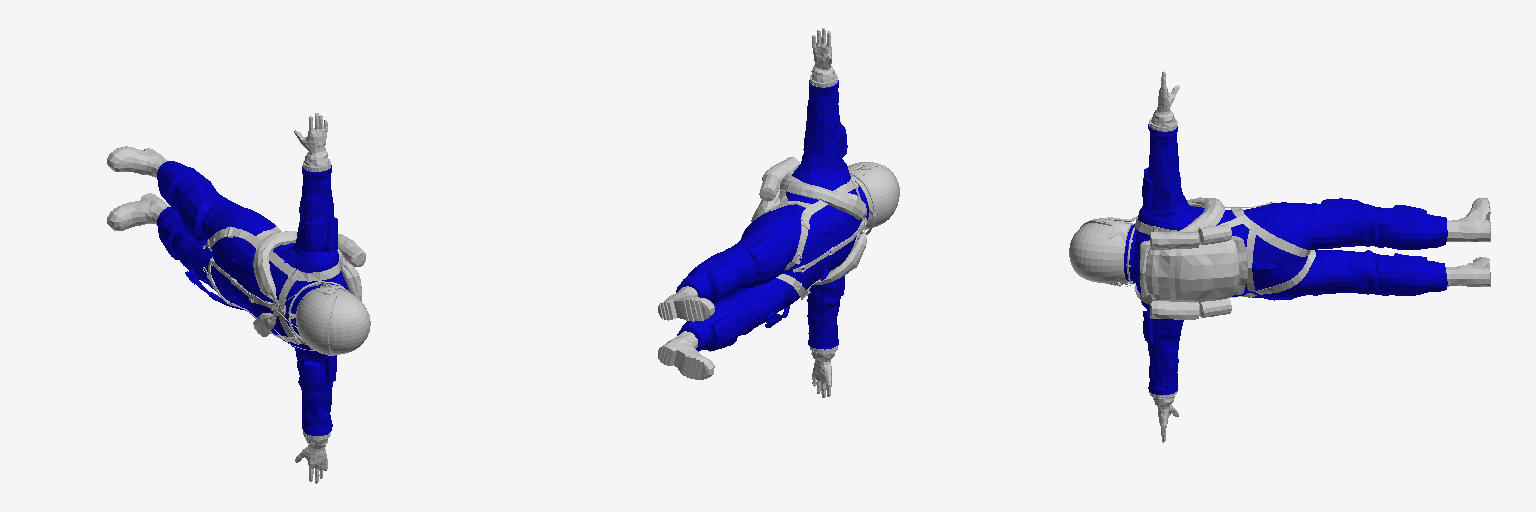
The model's file is uploads_files_2891700_Space+Suit_Green.obj.
3 renders of one model, left to right at view 1: azimuth 30°, elevation 25°; view 2: azimuth 150°, elevation 25°; view 3: azimuth 270°, elevation 25°, orthographic.
Parts seen in each view (by area): view 1: Wearpack_Mesh.003, Glove_Shoes_Mesh.001, Helmet_Mesh.002, Backpack_Mesh, Belt_Mesh.004; view 2: Wearpack_Mesh.003, Glove_Shoes_Mesh.001, Backpack_Mesh, Helmet_Mesh.002, Belt_Mesh.004; view 3: Wearpack_Mesh.003, Backpack_Mesh, Glove_Shoes_Mesh.001, Helmet_Mesh.002, Belt_Mesh.004.
Boxes of the visible parts, x1=… form: Wearpack_Mesh.003: x1=157, y1=161, x2=347, y2=435; Glove_Shoes_Mesh.001: x1=107, y1=113, x2=330, y2=483; Helmet_Mesh.002: x1=274, y1=281, x2=370, y2=355; Backpack_Mesh: x1=253, y1=231, x2=365, y2=336; Belt_Mesh.004: x1=202, y1=225, x2=344, y2=344; Wearpack_Mesh.003: x1=676, y1=80, x2=868, y2=351; Glove_Shoes_Mesh.001: x1=658, y1=28, x2=837, y2=397; Backpack_Mesh: x1=751, y1=157, x2=866, y2=284; Helmet_Mesh.002: x1=848, y1=162, x2=899, y2=234; Belt_Mesh.004: x1=741, y1=172, x2=863, y2=299; Wearpack_Mesh.003: x1=1124, y1=124, x2=1447, y2=394; Backpack_Mesh: x1=1140, y1=197, x2=1247, y2=319; Glove_Shoes_Mesh.001: x1=1149, y1=71, x2=1490, y2=442; Helmet_Mesh.002: x1=1069, y1=217, x2=1136, y2=286; Belt_Mesh.004: x1=1126, y1=202, x2=1315, y2=304.
Size of the model in its own units: 0.4996 by 1.81 by 1.87.